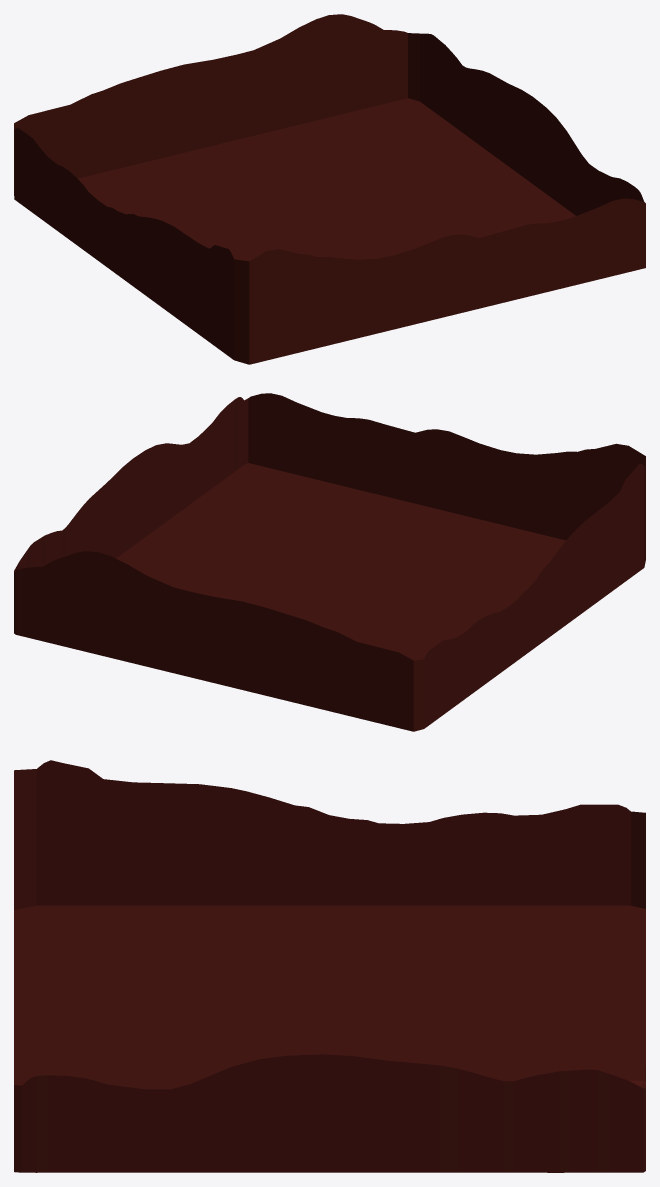
The model's file is obj_Lights.fbx.
3 renders of one model, top to bottom at view 1: azimuth 30°, elevation 25°; view 2: azimuth 150°, elevation 25°; view 3: azimuth 270°, elevation 25°, orthographic. The views are drawn at different scales.
Visible parts, largest first — view 1: geo_TerrainBase; view 2: geo_TerrainBase; view 3: geo_TerrainBase.
Part boxes in pixels (<box>): geo_TerrainBase: <box>14,14,645,364</box>; geo_TerrainBase: <box>14,393,645,731</box>; geo_TerrainBase: <box>14,760,645,1172</box>.
Bounding box in the file's own units: 101295 × 26238 × 101270.
